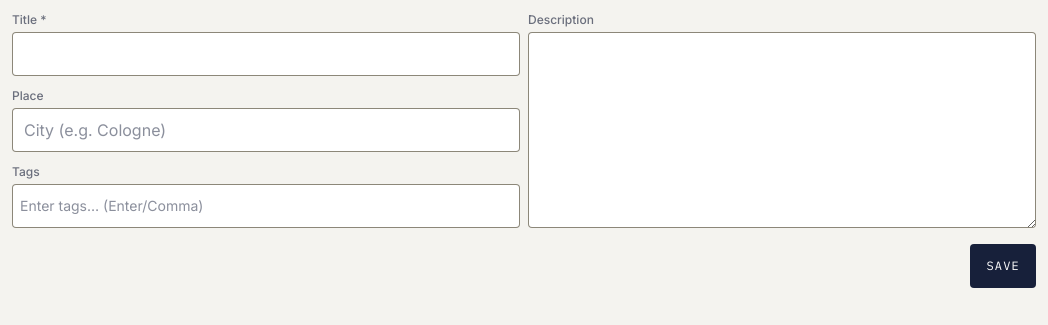
it: ItemForm submission › refuses to submit an entry with no title, and says which field is wrong
The width and height of the screenshot is (1048, 325).
What coordinates should you click on to do the following:
click the button "Save"
I would click on:
 (1003, 266)
Its box is left=970, top=244, right=1036, bottom=288.
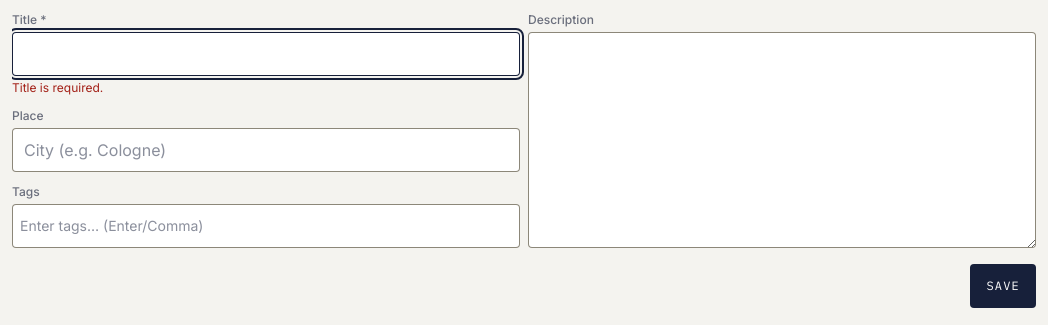
Check: the text "Title is required." is shown, box left=12, top=80, right=103, bottom=95
